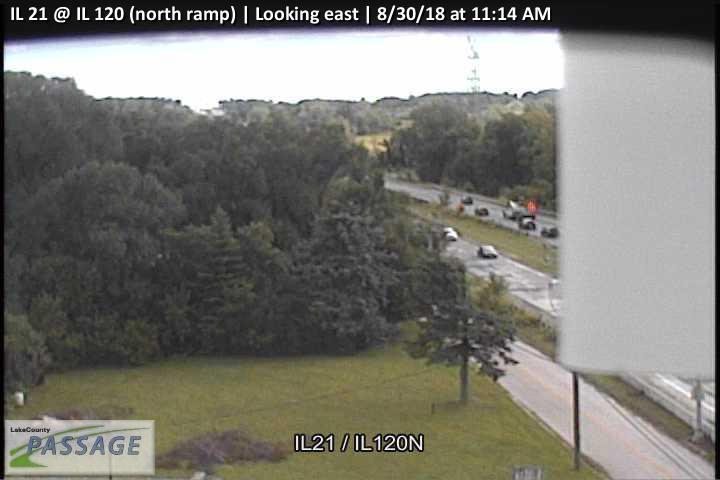Sedan: (478, 244, 498, 259)
